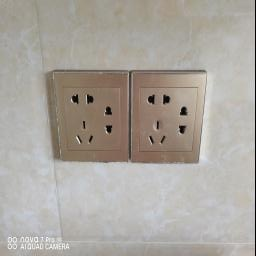outlet: (132, 68, 212, 168), (52, 68, 130, 164)
